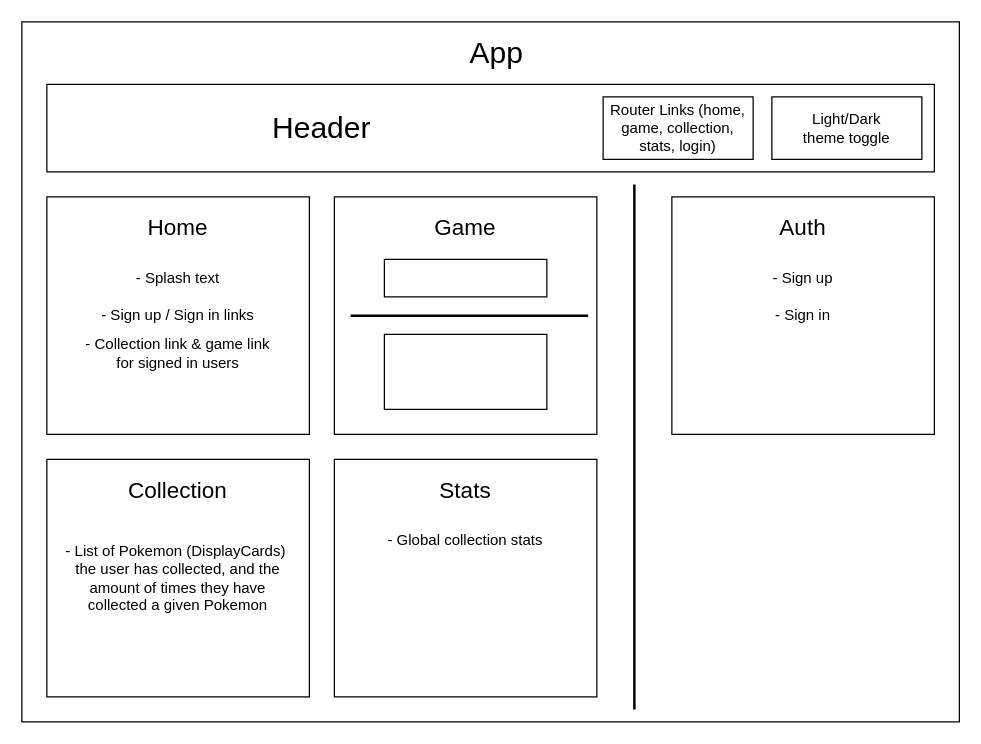
The diagram is 981 pixels wide and 744 high, and some of its shapes have lost their labels. Here are the shapes that lost their labels. From the top down, the centre of each, then its label:
At point (465, 277): "Claim Button".
At point (465, 371): "DisplayCard".
